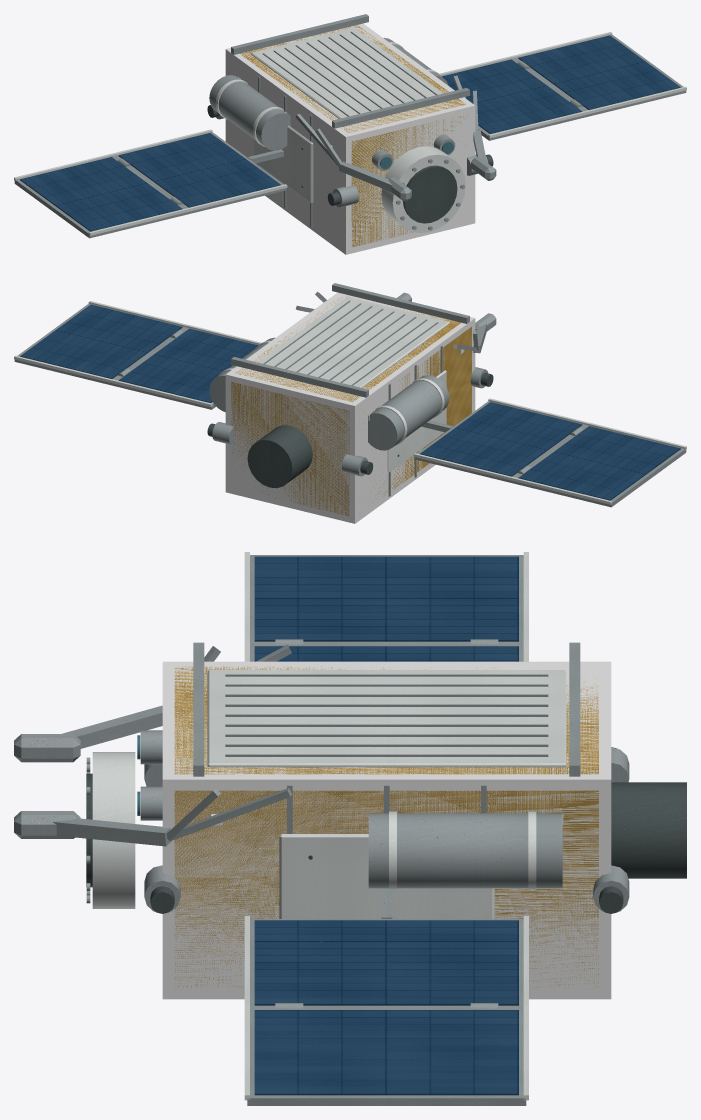
Rendered from OrbitalServiceTug.fbx.
The picture shows the model from 3 angles, top to bottom: view 1: azimuth 30°, elevation 25°; view 2: azimuth 150°, elevation 25°; view 3: azimuth 270°, elevation 25°; orthographic projection. The views are drawn at different scales.
Parts seen in each view (by area): view 1: LOD0, COL_Static; view 2: LOD0, COL_Static; view 3: LOD0, COL_Static.
Part boxes in pixels (x1,y1,x2,y2): LOD0: [14, 14, 686, 247]; COL_Static: [225, 23, 475, 254]; LOD0: [14, 283, 686, 515]; COL_Static: [225, 292, 475, 523]; LOD0: [14, 552, 686, 1105]; COL_Static: [162, 661, 611, 999].
Size of what is drawn, in the model's own units: 1060 by 215 by 555.
